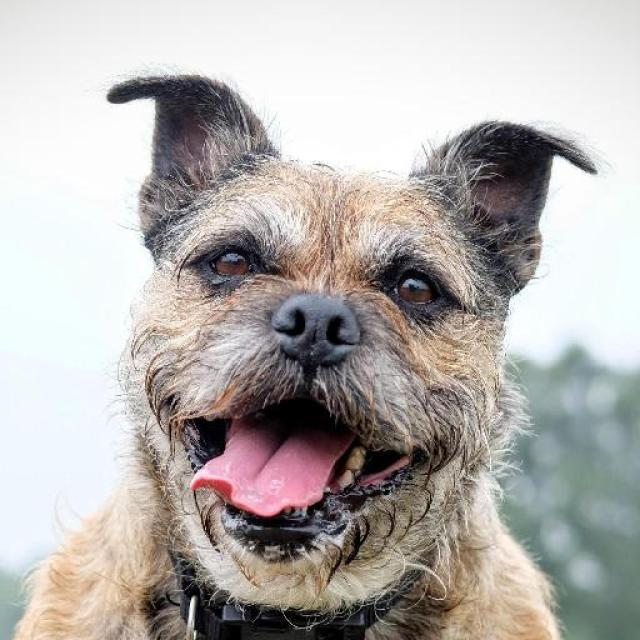adult_dog: (8, 72, 603, 637)
